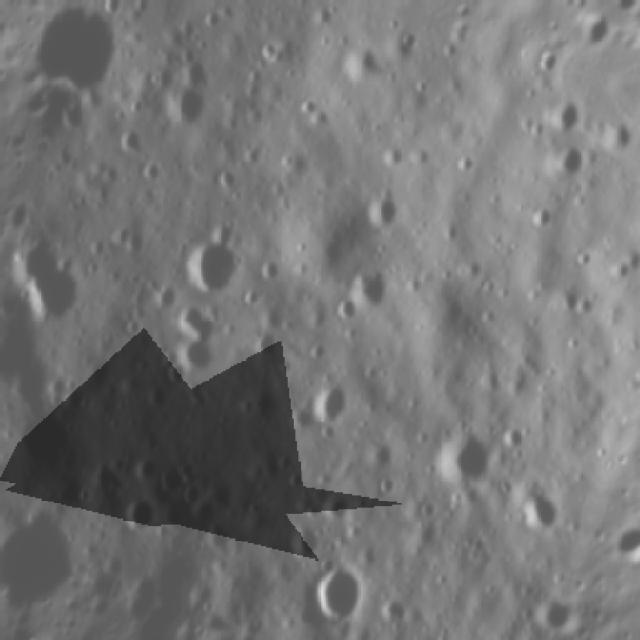crater: (0, 226, 98, 335), (0, 486, 102, 577), (153, 292, 244, 392), (168, 214, 263, 308), (59, 0, 138, 108), (424, 404, 505, 498), (0, 393, 82, 481), (302, 548, 380, 638), (511, 468, 572, 543), (332, 24, 397, 91), (153, 74, 218, 138), (303, 369, 362, 437), (272, 500, 330, 569), (342, 261, 402, 319), (358, 173, 414, 235), (548, 122, 600, 186), (534, 84, 591, 141), (149, 447, 196, 499), (116, 482, 161, 533), (10, 185, 45, 244), (248, 322, 288, 364), (253, 249, 293, 291)
